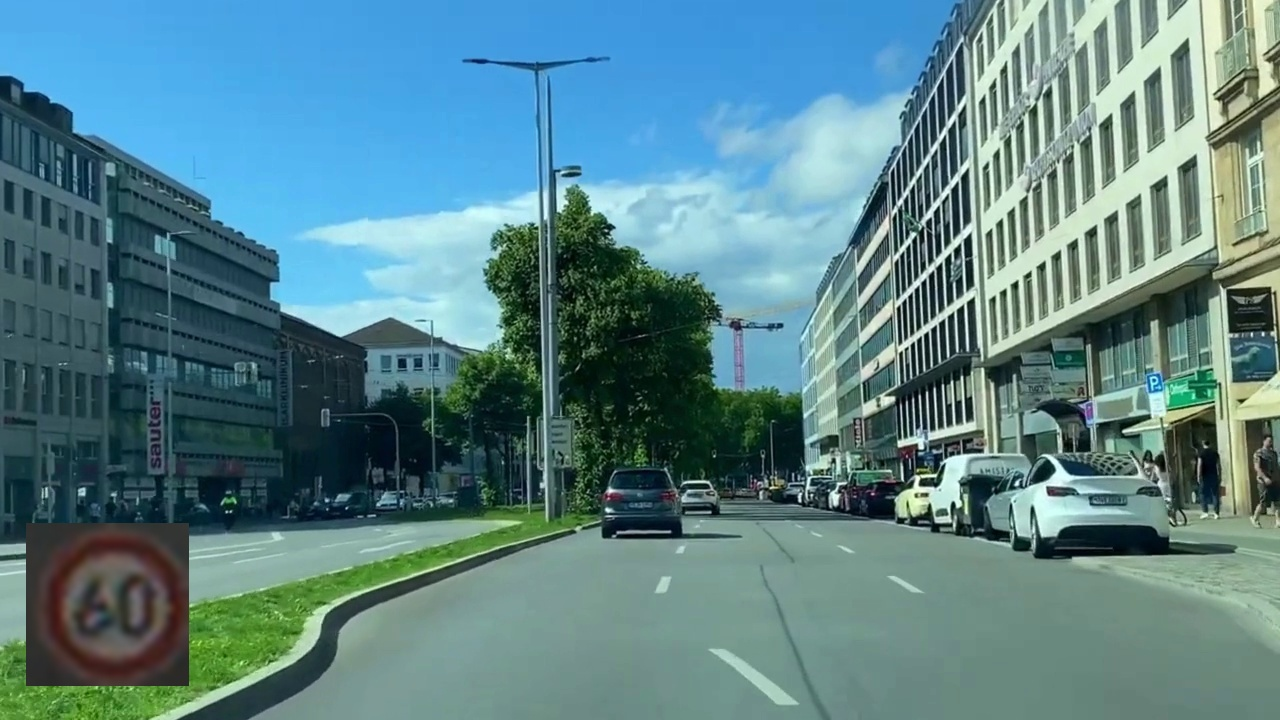Speed 60: (26, 523, 189, 686)
